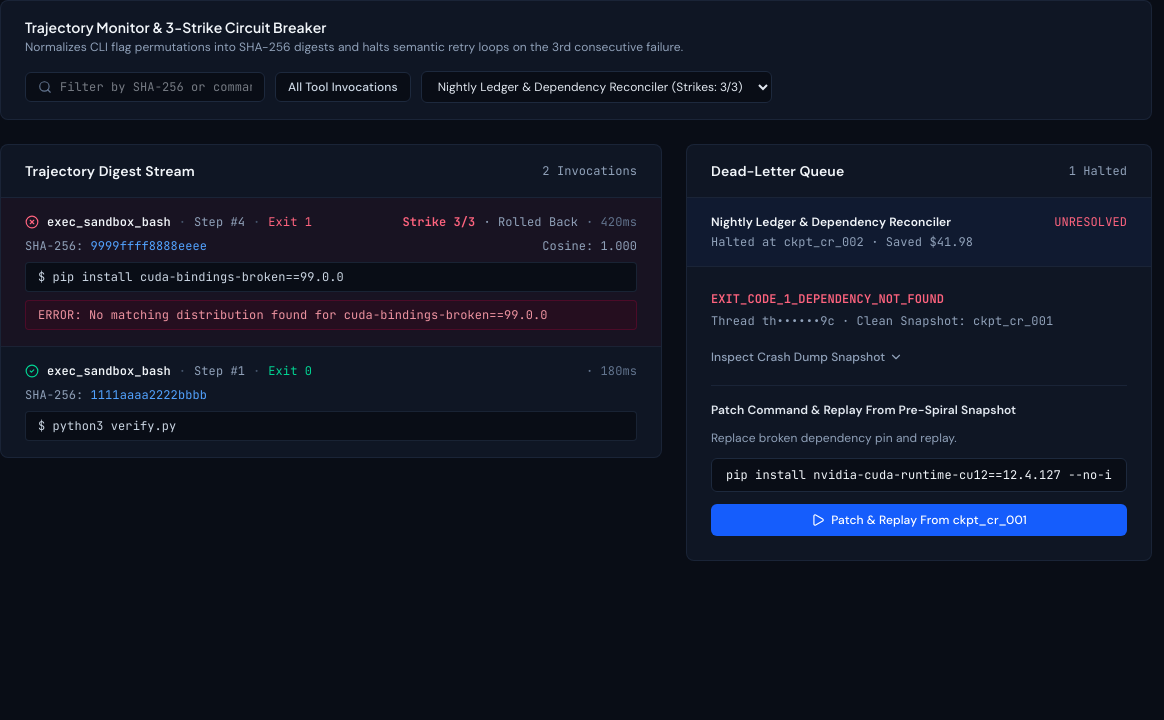
TrajectoryCircuitView Component › filters trajectory events by SHA-256 hash and non-zero exit toggle
The image size is (1164, 720).
Expected: the text "1111aaaa2222bbbb" is shown, 90,387 -> 207,403
Expected: the text "9999ffff8888eeee" is shown, 90,238 -> 207,254
Click the button "All Tool Invocations": x=343, y=87 275,72 -> 411,102
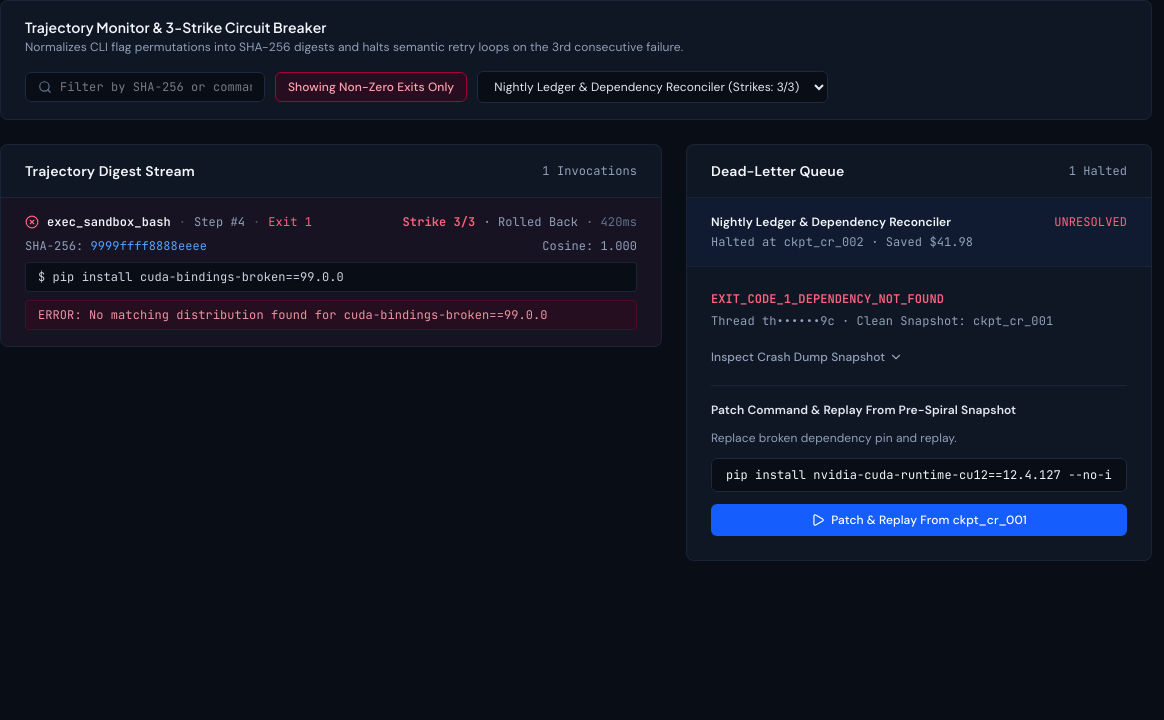
Expected: the text "9999ffff8888eeee" is shown, 90,238 -> 207,254
Expected: the text "1111aaaa2222bbbb" is gone
